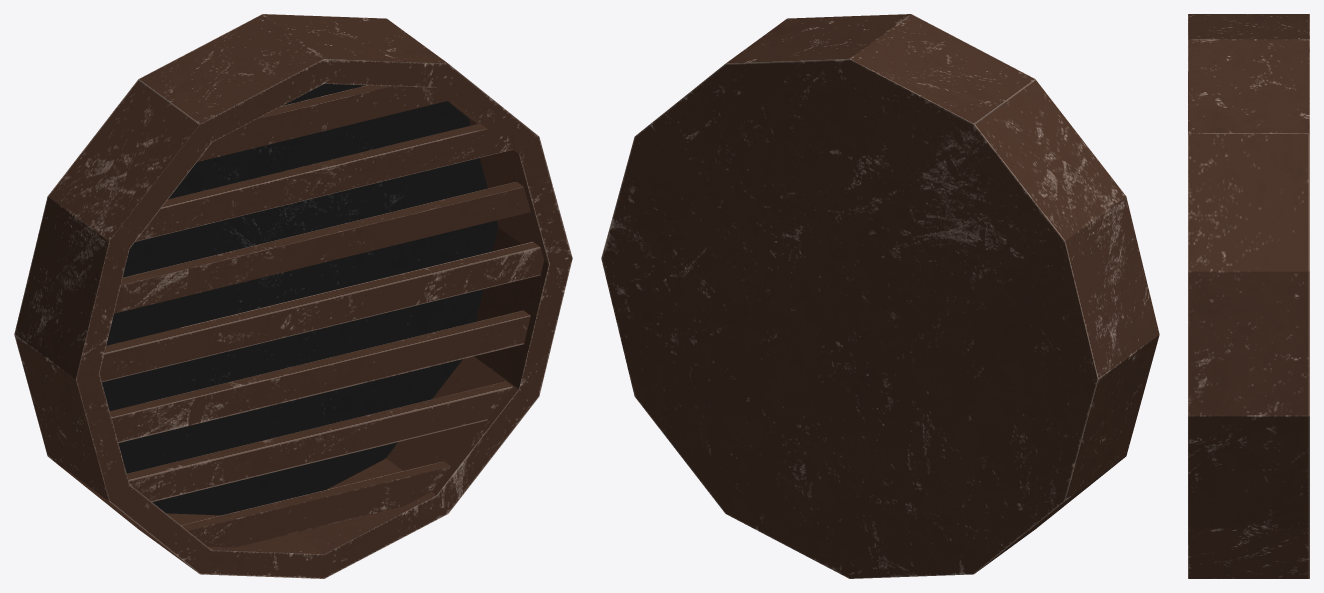
File: VentCircle.gltf
3 renders of one model, left to right at view 1: azimuth 30°, elevation 25°; view 2: azimuth 150°, elevation 25°; view 3: azimuth 270°, elevation 25°, orthographic.
Visible parts, largest first — view 1: Cube.013; view 2: Cube.013; view 3: Cube.013.
Boxes of the visible parts, x1,y1,x2,y2 form: Cube.013: (14, 14, 572, 578); Cube.013: (601, 14, 1159, 578); Cube.013: (1188, 14, 1309, 578).
Bounding box in the file's own units: 3.03 × 3.03 × 0.6512.
Materials: 1 (1 with a texture image).
